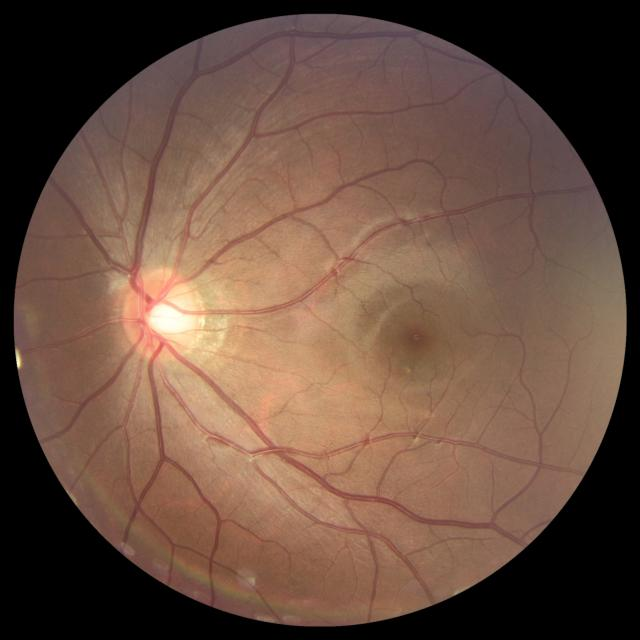OC: (145, 296, 184, 339)
OD: (122, 269, 200, 362)
